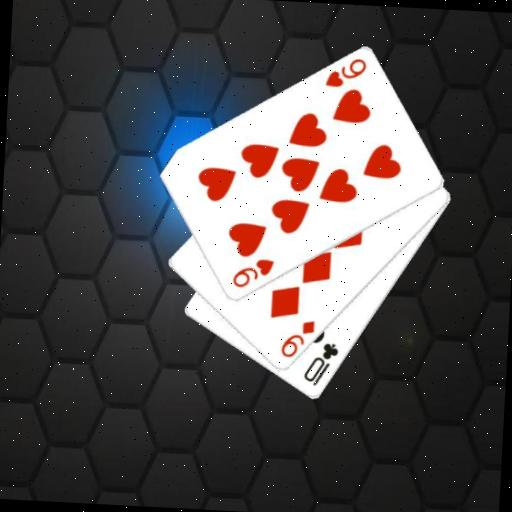10C: (300, 339, 341, 389)
9D: (277, 317, 317, 361)
9H: (229, 254, 276, 292), (321, 54, 368, 92)
